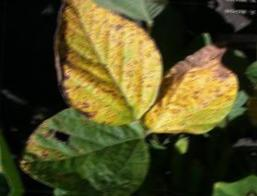Tomato Septoria leaf spot: (41, 0, 165, 126), (10, 101, 154, 195), (142, 40, 242, 142)
